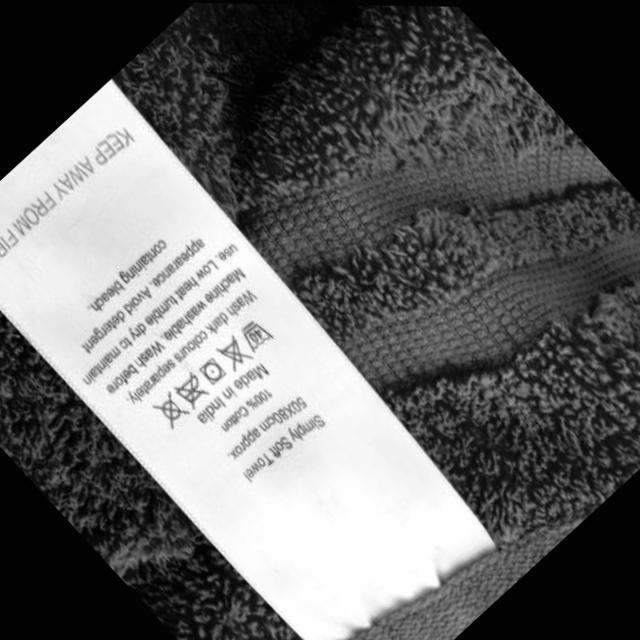40C: (244, 320, 277, 350)
DN_bleach: (219, 336, 250, 367)
DN_dry_clean: (157, 391, 190, 430)
DN_iron: (177, 375, 208, 406)
tumble_dry_low: (200, 356, 228, 389)
